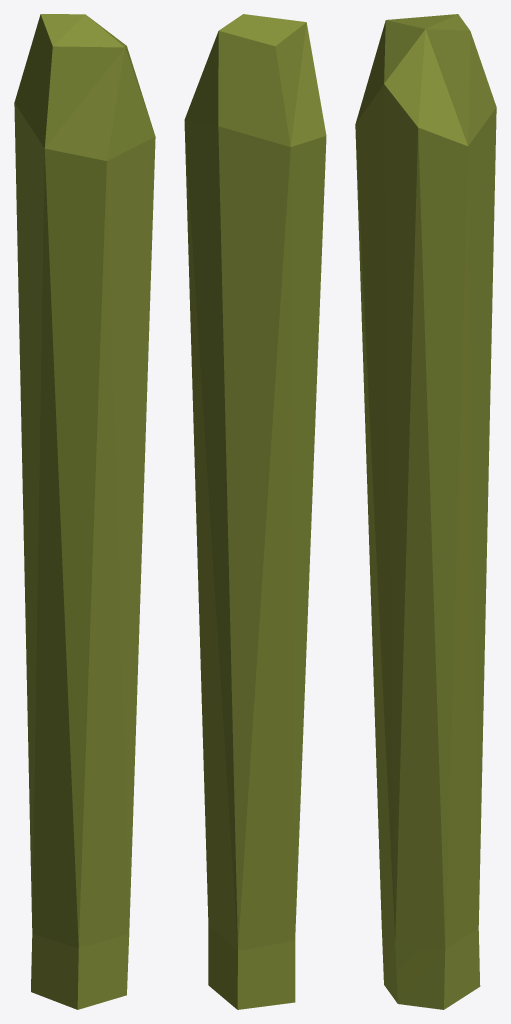
File: ea_swamp_grass_01a_pre__28__lev1.glb
3 views of the same model, side by side, from view 1: azimuth 90°, elevation 25°; view 2: azimuth 150°, elevation 25°; view 3: azimuth 270°, elevation 25° (orthographic).
Parts seen in each view (by area): view 1: ea_swamp_grass_01a_pre__28__lev1; view 2: ea_swamp_grass_01a_pre__28__lev1; view 3: ea_swamp_grass_01a_pre__28__lev1.
Boxes of the visible parts, <box> form: ea_swamp_grass_01a_pre__28__lev1: <box>14,14,155,1009</box>; ea_swamp_grass_01a_pre__28__lev1: <box>184,14,326,1009</box>; ea_swamp_grass_01a_pre__28__lev1: <box>355,14,496,1009</box>.
Size of the model in its own units: 0.2309 by 1.82 by 0.2404.
1 material, 1 textured.
